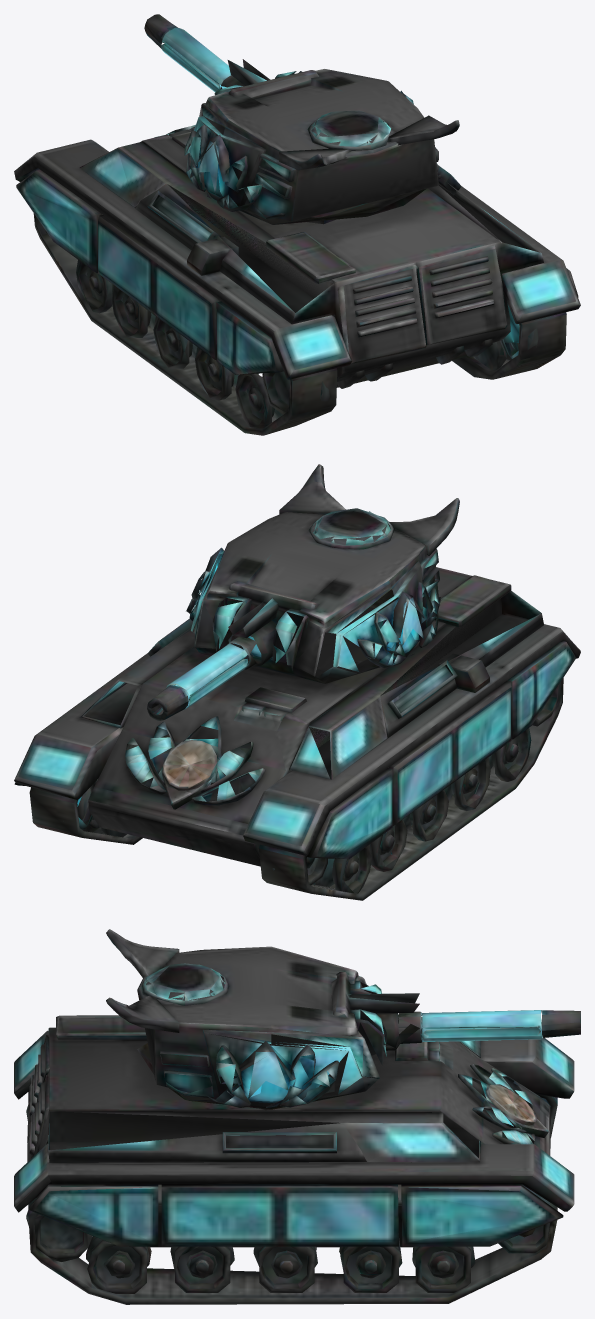
Rendered from charcoal_mortar.glb.
3 renders of one model, top to bottom at view 1: azimuth 30°, elevation 25°; view 2: azimuth 150°, elevation 25°; view 3: azimuth 270°, elevation 25°, orthographic.
Visible parts, largest first — view 1: Body, Turret, Trim, Barrel; view 2: Body, Turret, Trim, Barrel; view 3: Body, Turret, Trim, Barrel.
Part boxes in pixels (x1=…): Body: x1=14, y1=28, x2=580, y2=435; Turret: x1=184, y1=59, x2=459, y2=221; Trim: x1=20, y1=43, x2=575, y2=370; Barrel: x1=144, y1=14, x2=240, y2=87; Body: x1=14, y1=567, x2=580, y2=900; Turret: x1=186, y1=464, x2=459, y2=676; Trim: x1=18, y1=659, x2=510, y2=852; Barrel: x1=147, y1=636, x2=256, y2=712; Body: x1=14, y1=1015, x2=580, y2=1304; Turret: x1=106, y1=929, x2=419, y2=1101; Trim: x1=15, y1=1019, x2=573, y2=1241; Barrel: x1=398, y1=1010, x2=580, y2=1030.
Size of the model in its own units: 4.28 by 3.61 by 6.81.
Materials: 2 (2 with a texture image).
